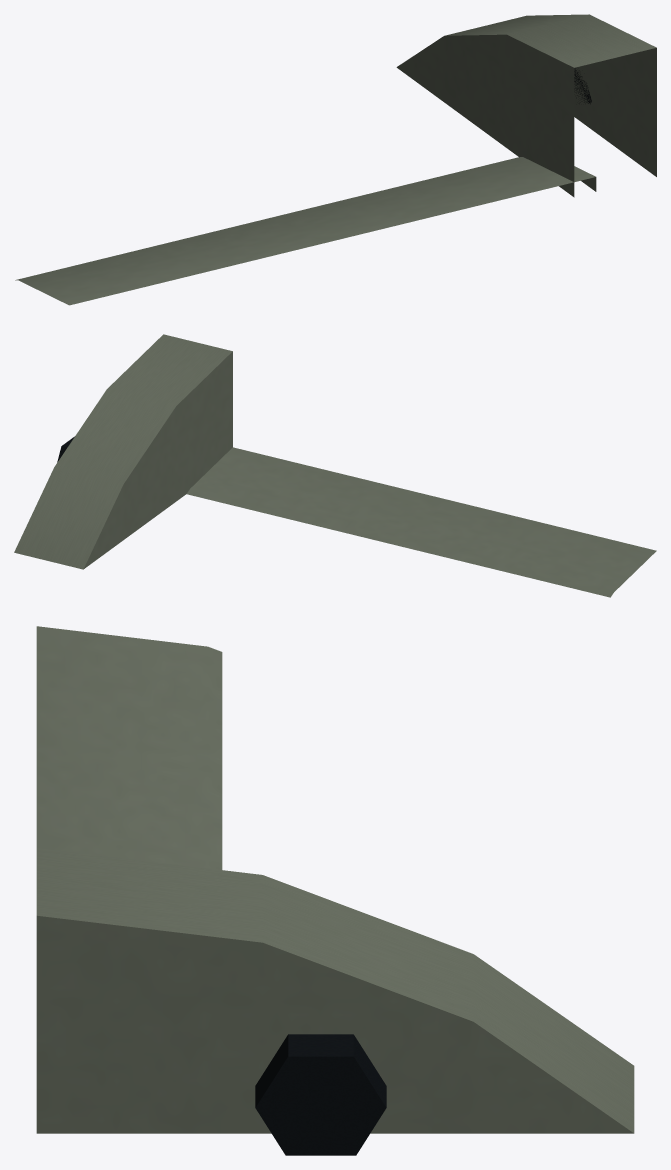
Rendered from cell_11.obj.
The picture shows the model from 3 angles, top to bottom: view 1: azimuth 30°, elevation 25°; view 2: azimuth 150°, elevation 25°; view 3: azimuth 270°, elevation 25°; orthographic projection. The views are drawn at different scales.
Parts seen in each view (by area): view 1: cell_11; view 2: cell_11; view 3: cell_11.
Boxes of the visible parts, x1,y1,x2,y2 form: cell_11: (15, 14, 656, 305); cell_11: (14, 334, 656, 597); cell_11: (36, 626, 634, 1155).
Size of the model in its own units: 0.523 by 0.1055 by 0.2623.
